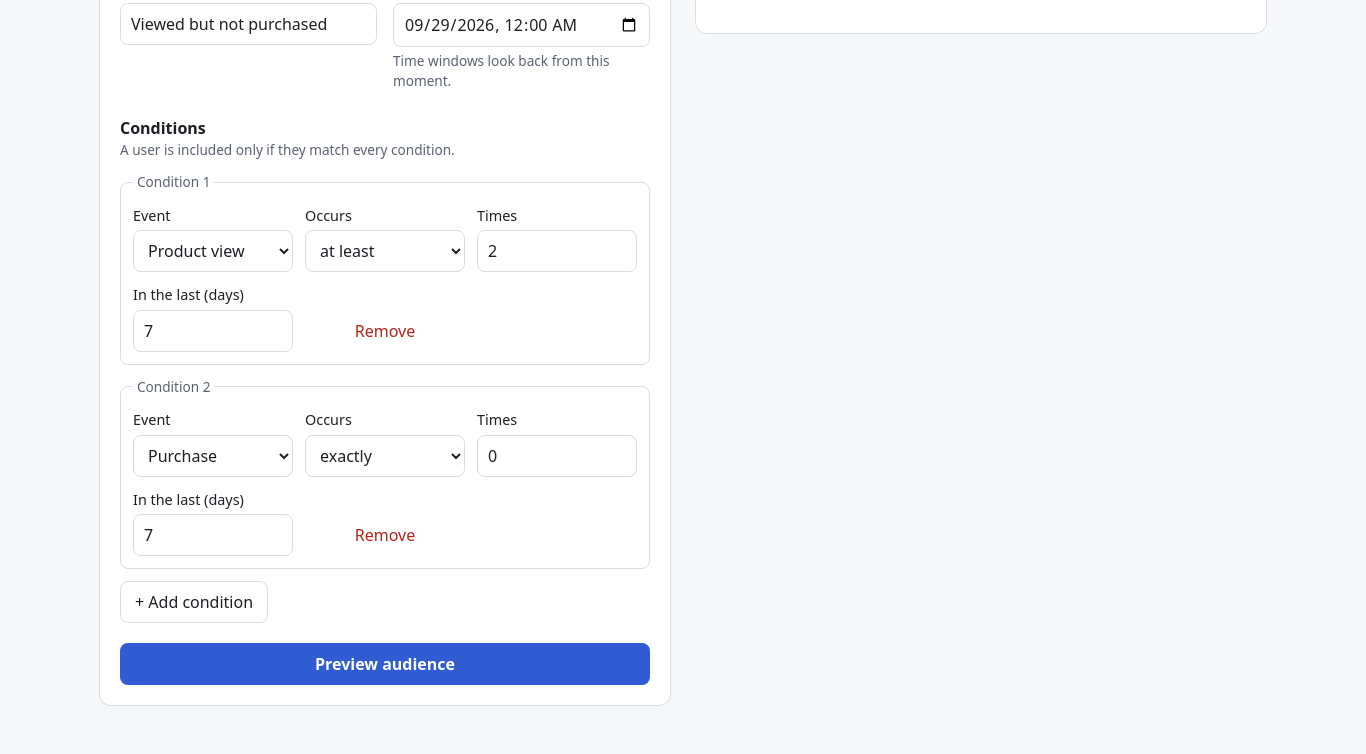
Test: App › shows an API failure with a working retry
This screenshot has width=1366, height=754.
(page scrolled)
Click the button "Preview audience": coordinates (385, 664) [120, 643, 650, 685]
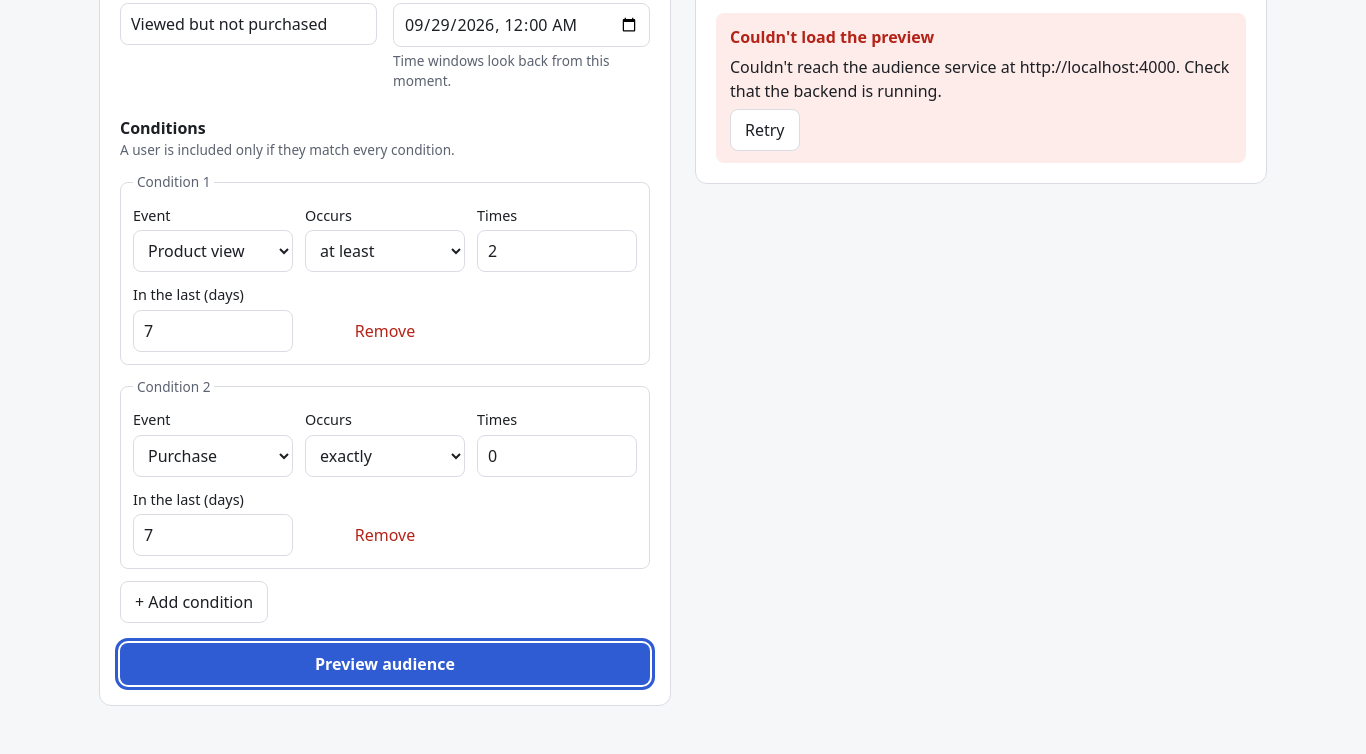
Expected: the message that starts with "Couldn't load the preview" shows "Couldn't reach the audience service", [730, 56, 1229, 102]
Click the button "Retry": coordinates (765, 130) [730, 109, 800, 151]
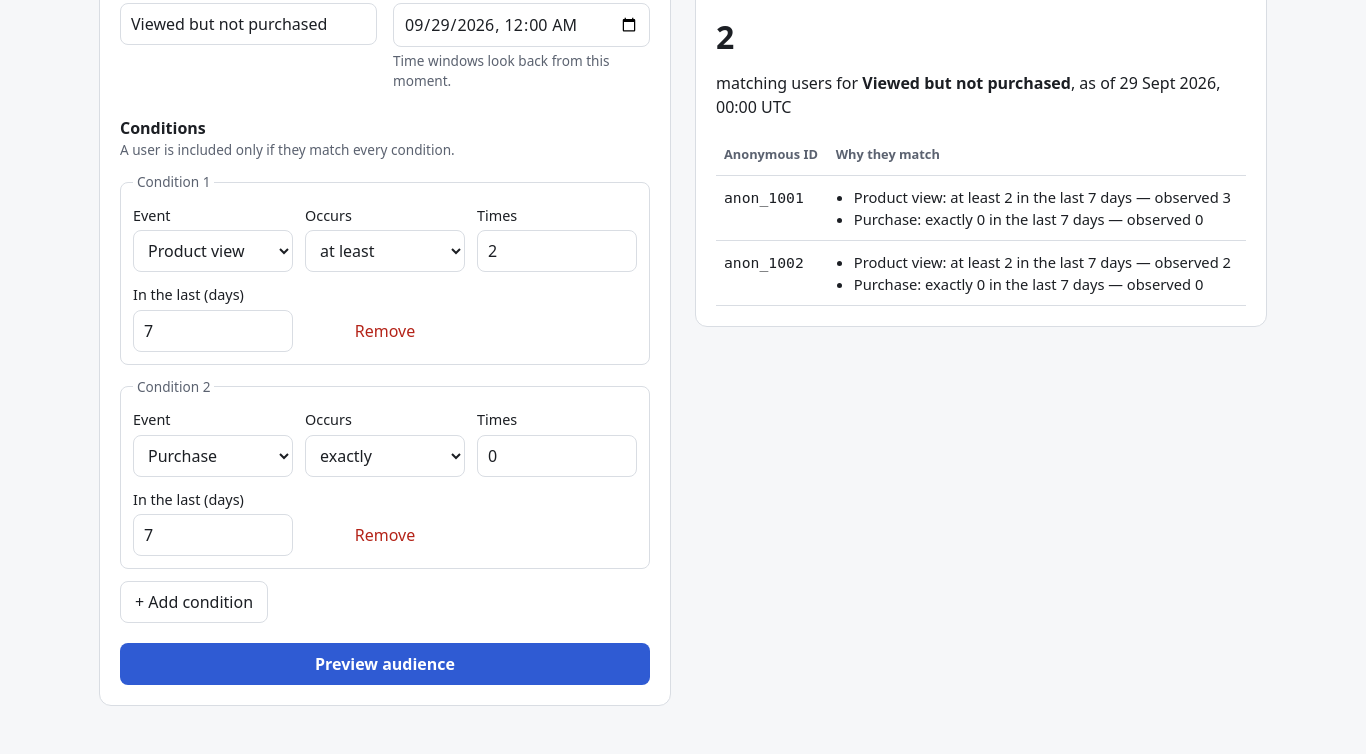
Expected: the text "anon_1001" is shown, [724, 189, 804, 206]
